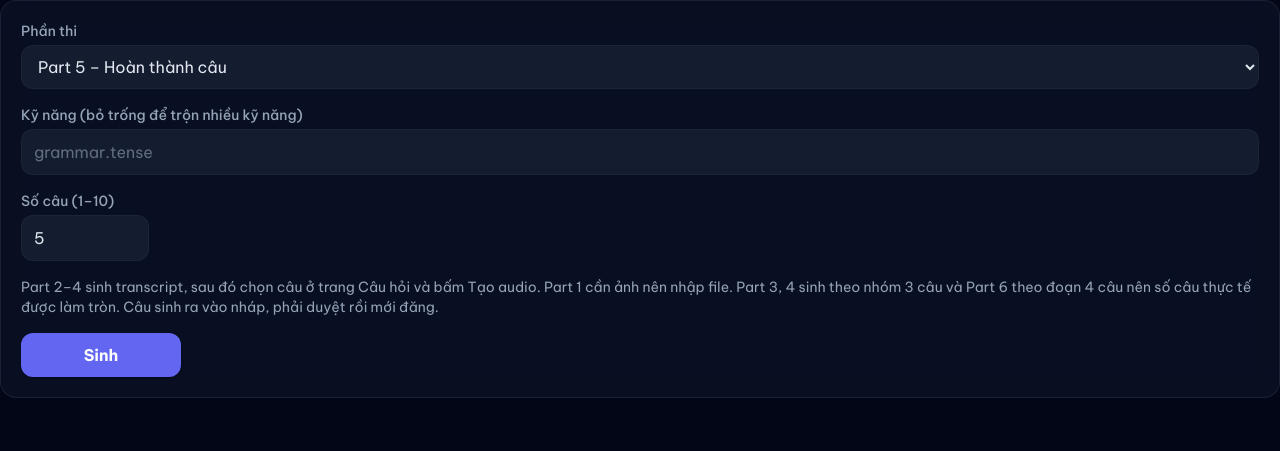
Test: GenerateForm › hiện thông báo action trả về
Click the button "Sinh".
click(101, 355)  # box [21,333,181,377]
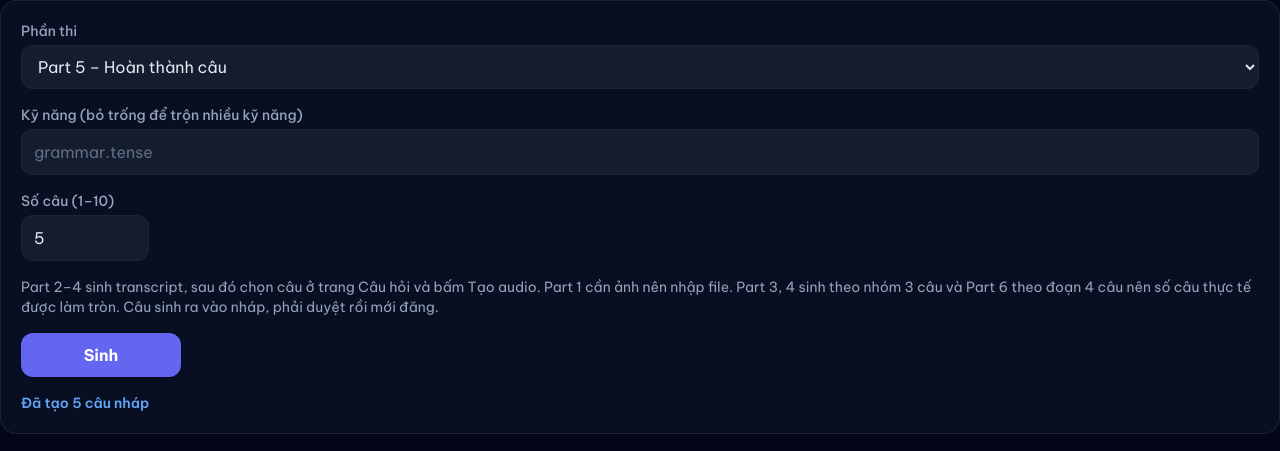
Check: the text "Đã tạo 5 câu nháp" is shown, box [21,394,149,412]
